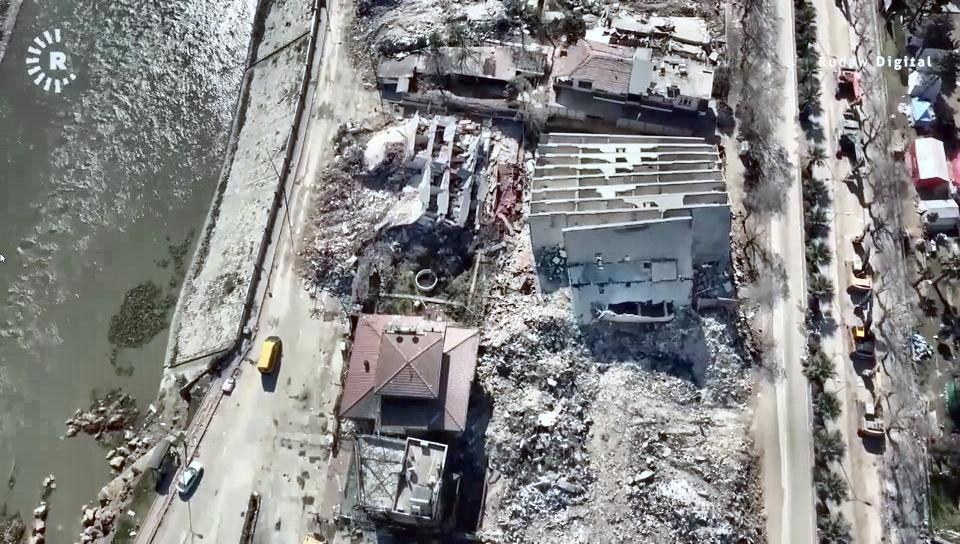kapali: (258, 95, 387, 333), (315, 0, 402, 105)
